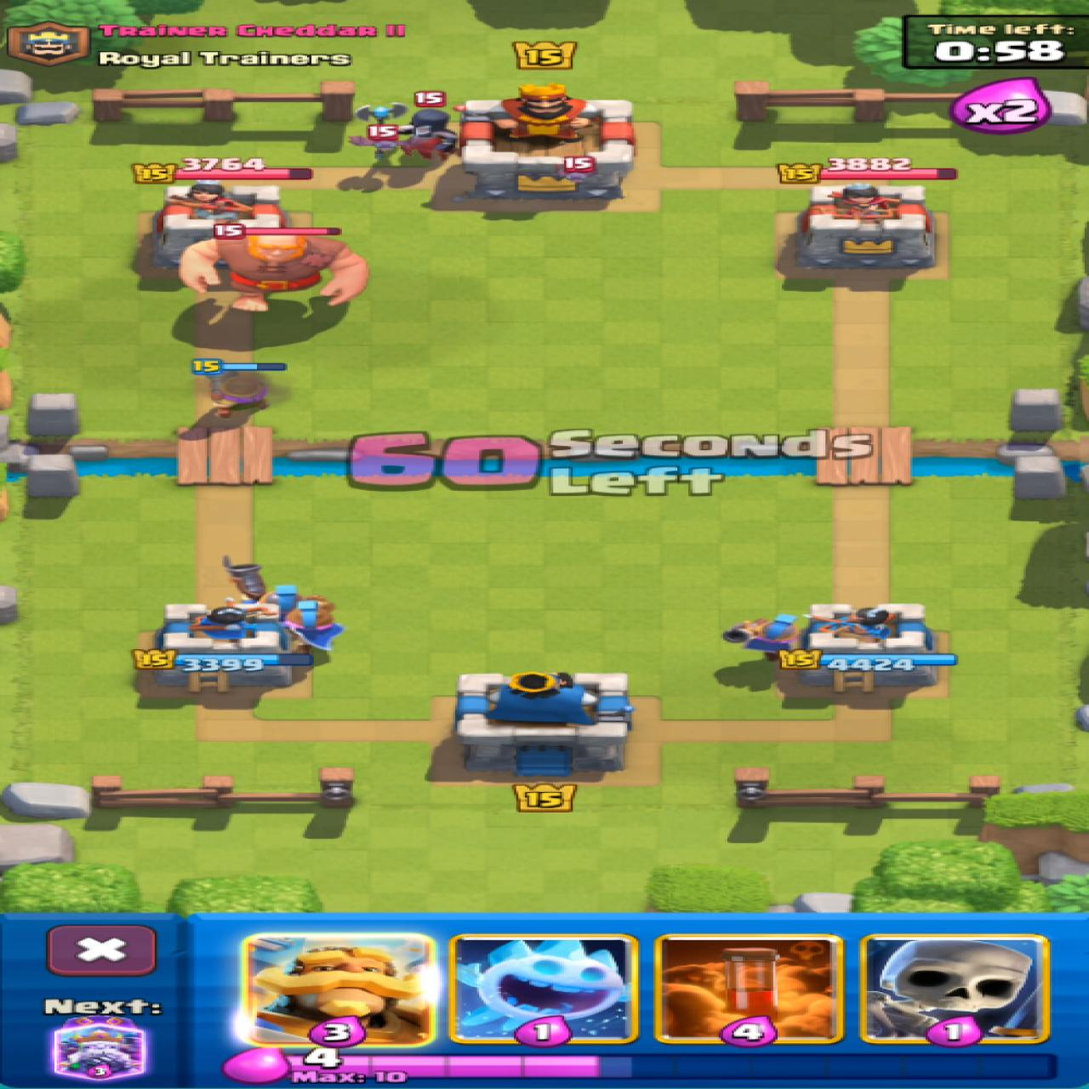Enemy-Bat: (348, 126, 399, 161), (562, 155, 595, 182)
Enemy-Giant: (181, 234, 366, 310)
Enemy-KingTower: (460, 84, 634, 201)
Enemy-NightWitch: (394, 109, 455, 159), (355, 104, 405, 122)
Enemy-PrincessTower: (795, 183, 934, 276), (152, 180, 287, 267)
